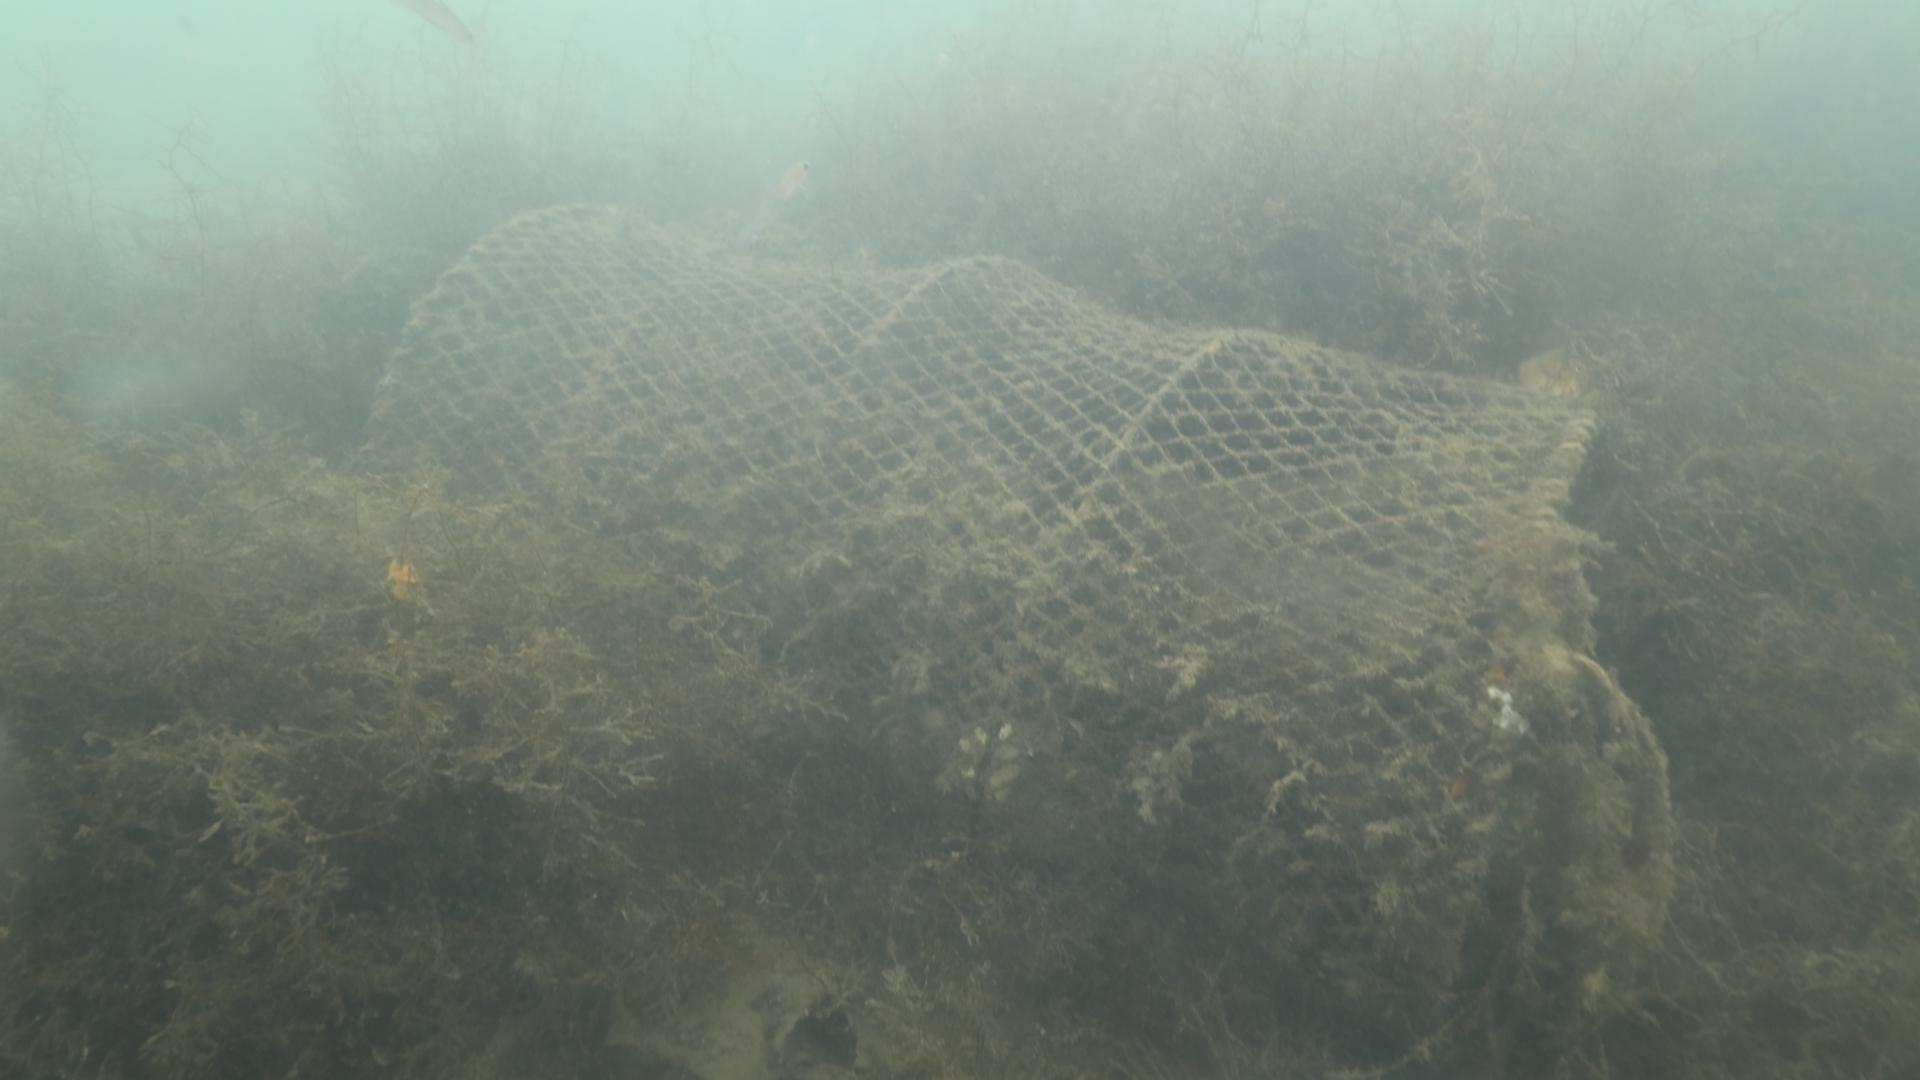spring fish trap: (353, 198, 1607, 1031)
